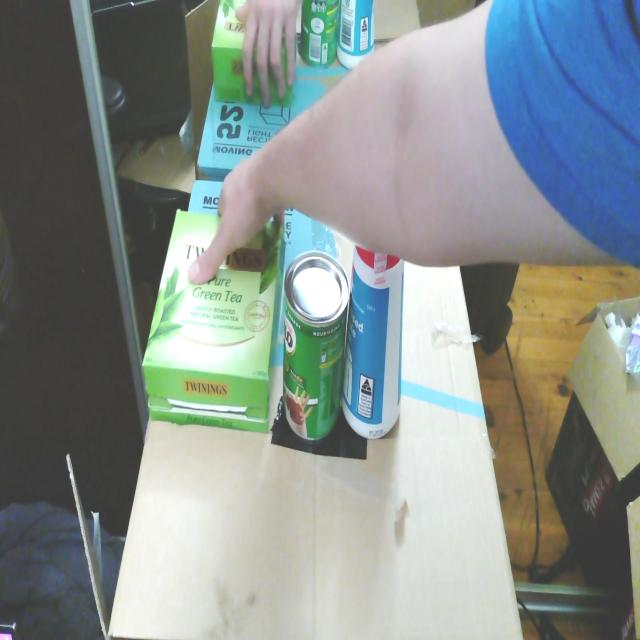nestle_milo_tin: (283, 251, 350, 440)
twinings_greentea_box: (142, 209, 286, 432)
woolworths_salt_bottle: (341, 245, 404, 439)
